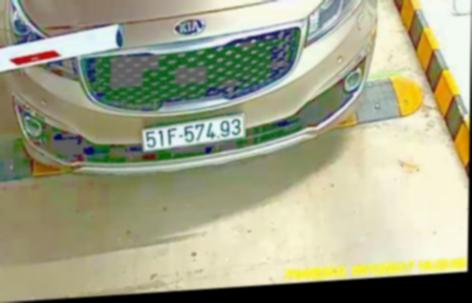License_Plate: (139, 111, 247, 152)
